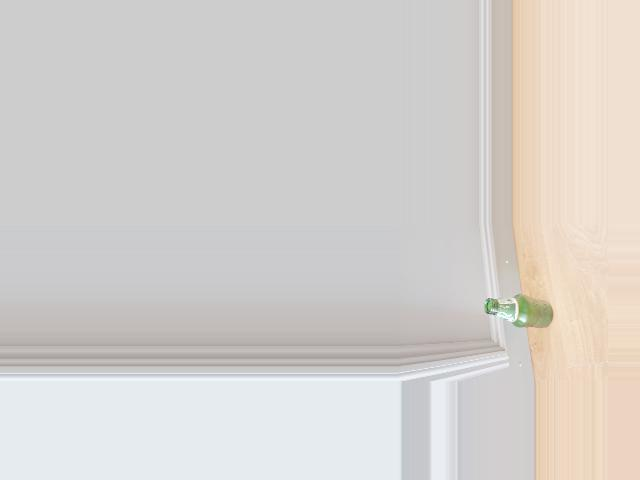beer: (484, 294, 553, 328)
